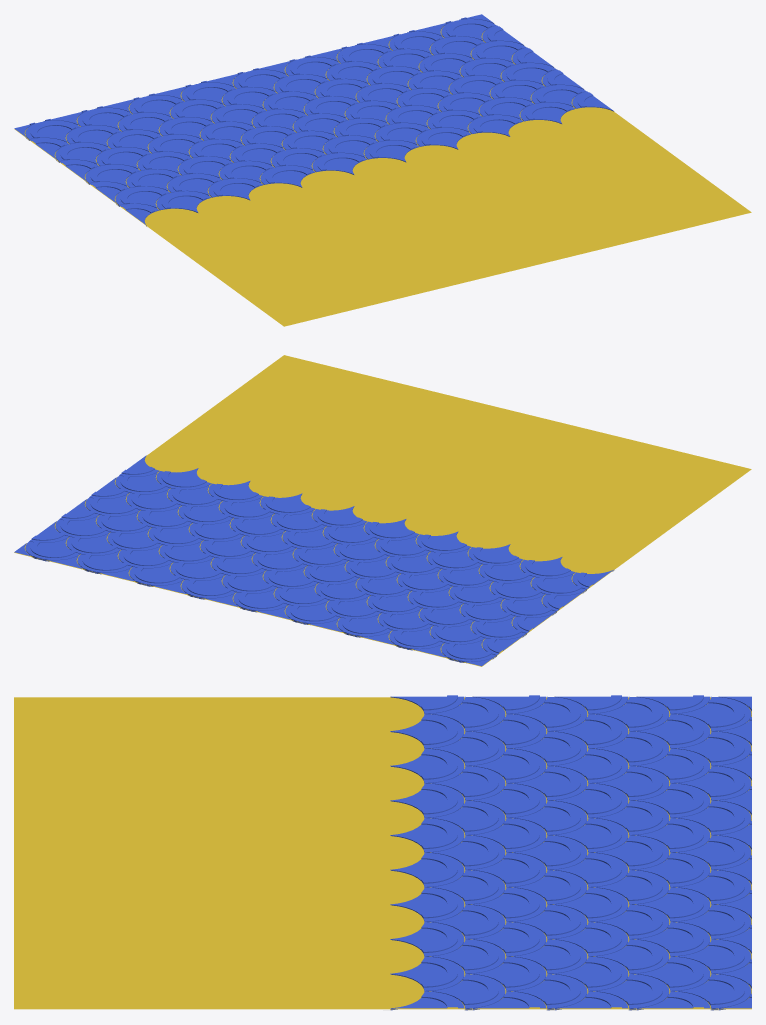
File: VerdantGreen_high.fbx
3 views of the same model, one above another, from view 1: azimuth 30°, elevation 25°; view 2: azimuth 150°, elevation 25°; view 3: azimuth 270°, elevation 25° (orthographic). The views are drawn at different scales.
Visible parts, largest first — view 1: Plane.002, Cylinder.040; view 2: Plane.002, Cylinder.040; view 3: Plane.002, Cylinder.040.
Part boxes in pixels (x1,y1,x2,y2): Plane.002: (14, 26, 751, 326); Cylinder.040: (14, 14, 614, 227); Plane.002: (14, 355, 751, 666); Cylinder.040: (14, 455, 614, 666); Plane.002: (14, 697, 751, 1009); Cylinder.040: (383, 695, 751, 1010).
Bounding box in the file's own units: 200 × 0.9309 × 200.
